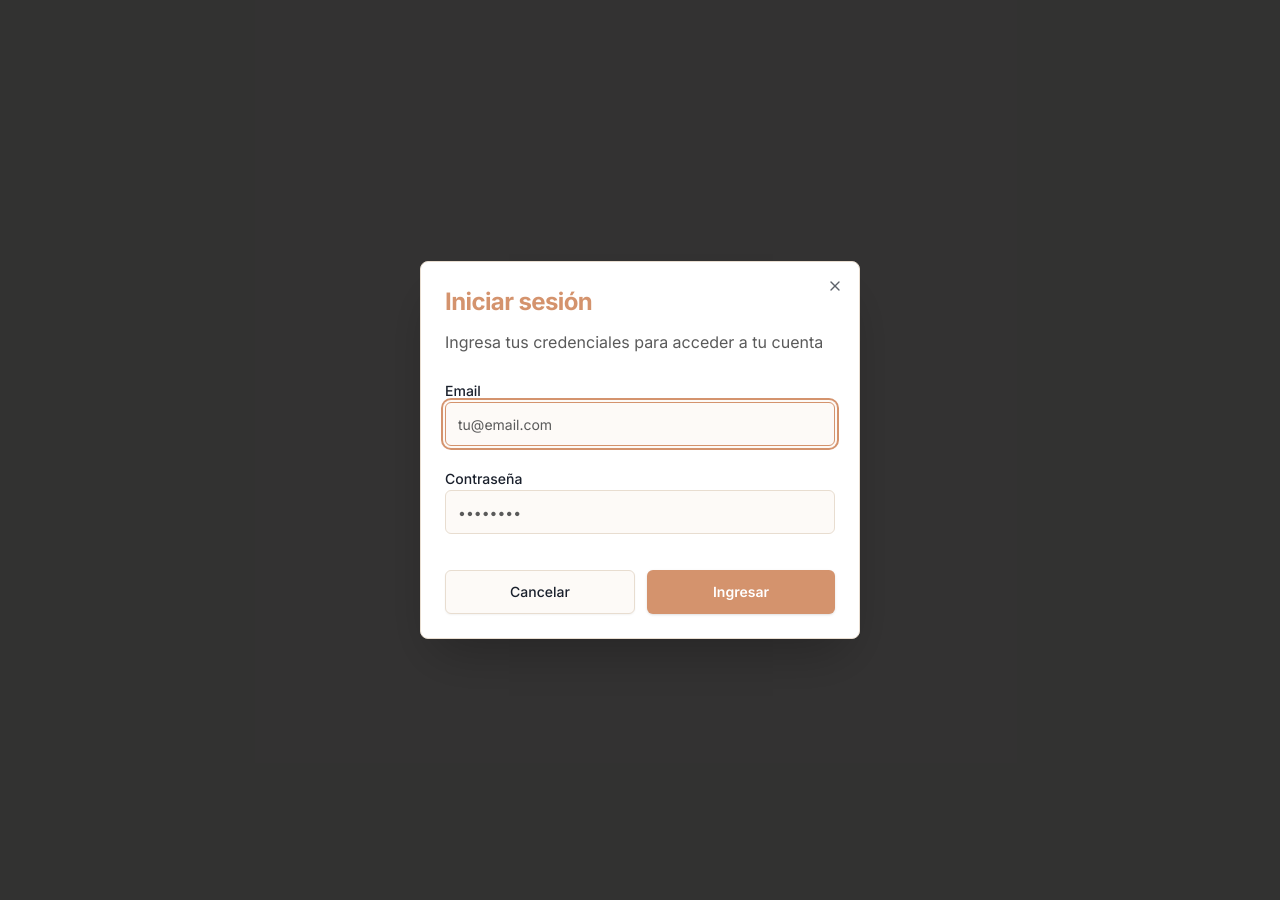
Scenario: LoginModal › should display user-friendly message for invalid credentials (401)
Type "test@example.com" into the field labelled "Email" at {"x": 640, "y": 424}, box [445,402,835,446]
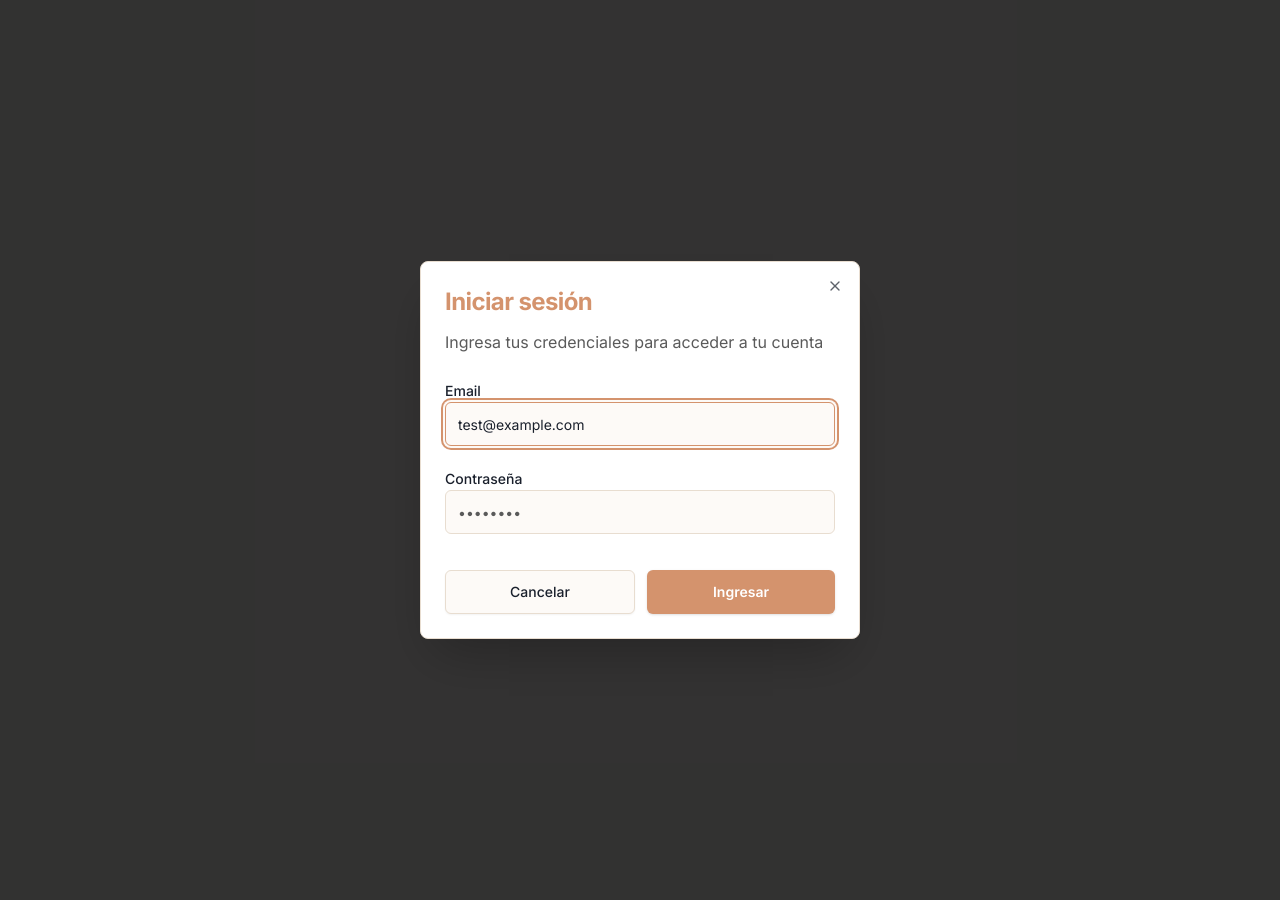
Type "wrongpassword" into the password field labelled "Contraseña" at {"x": 640, "y": 512}, box [445,490,835,534]
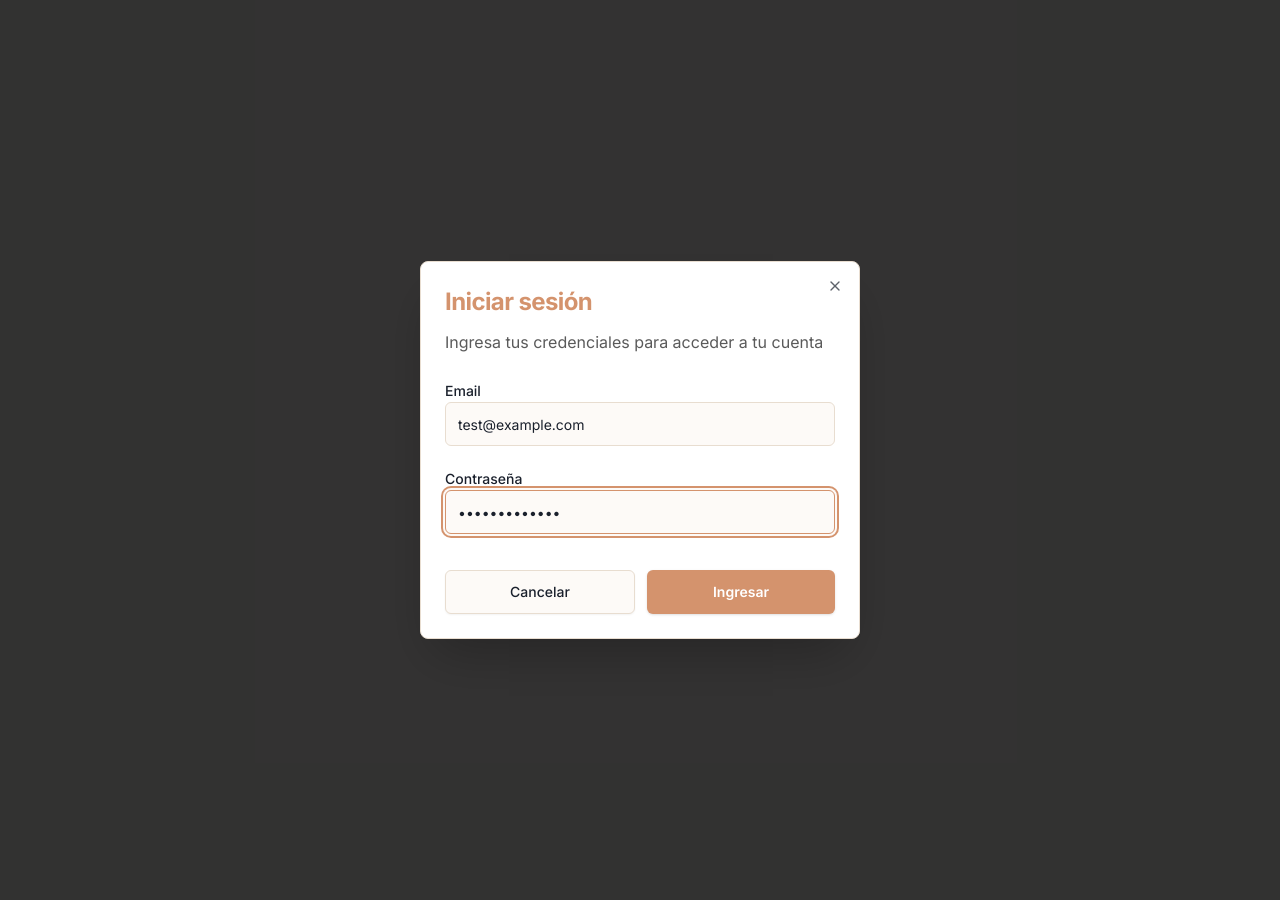
# Tab out to trigger validation/state update
Press Tab
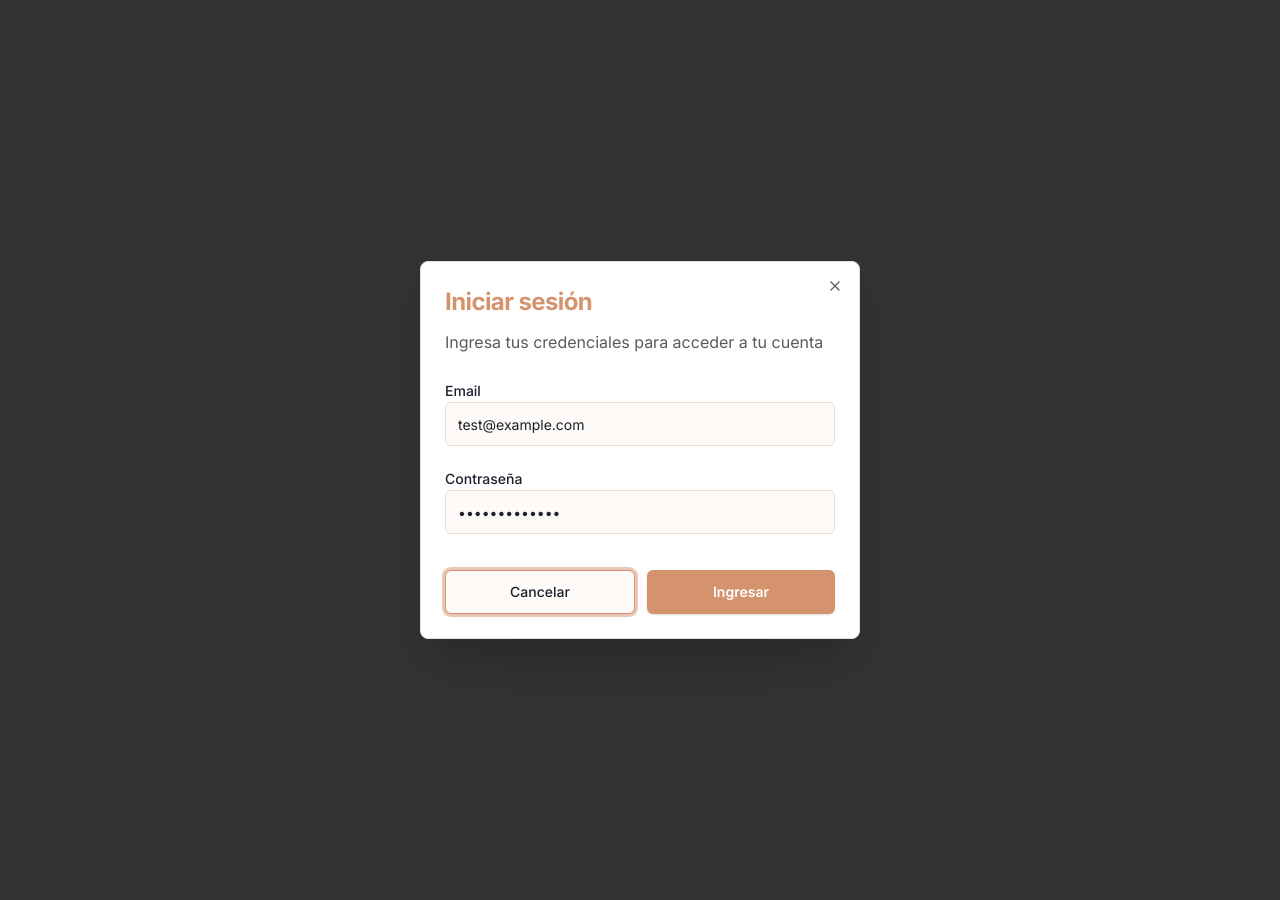
Click the button "Ingresar" at {"x": 741, "y": 592}, box [647,570,835,614]
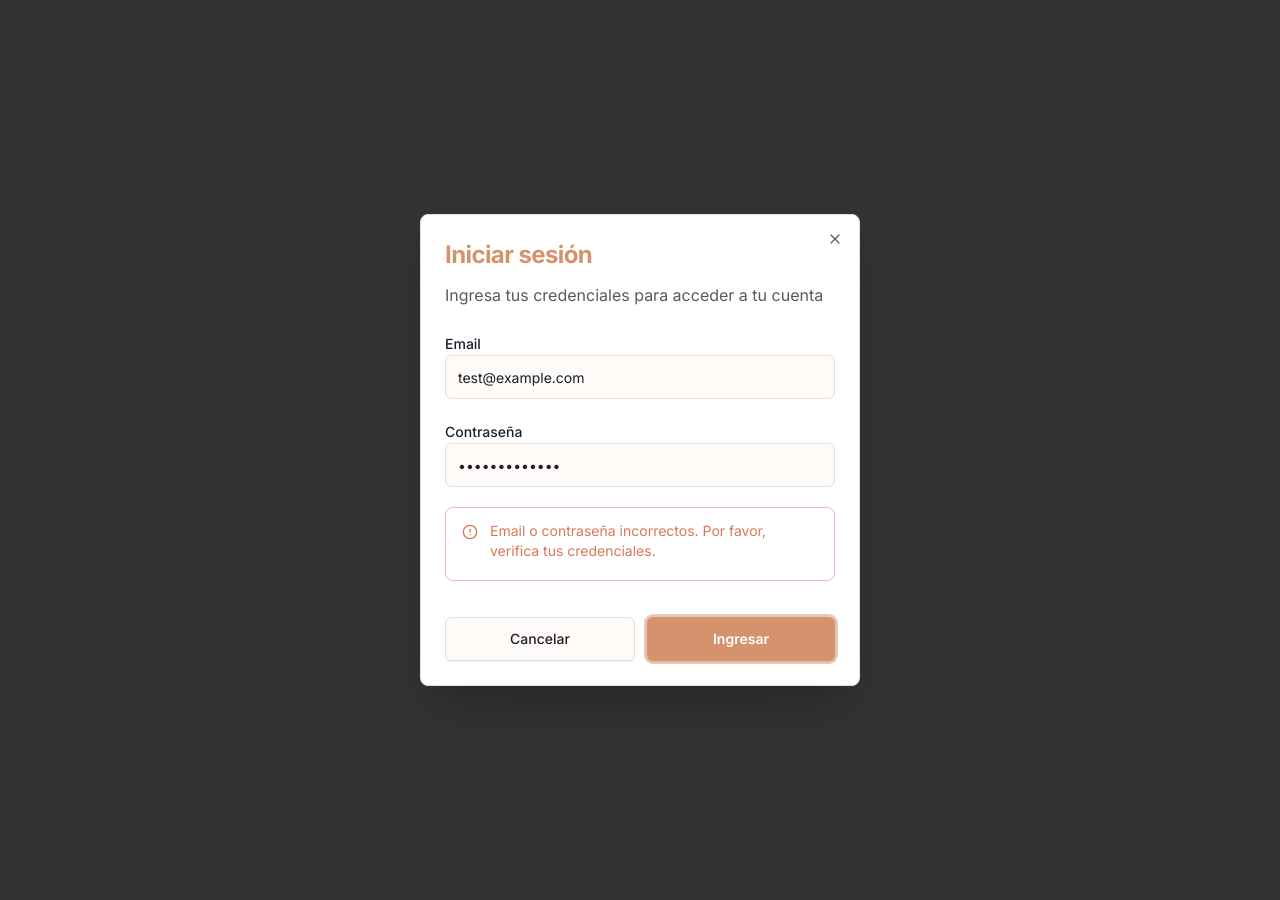
Now the text "Email o contraseña incorrectos" is shown, box [490,522,766,559]
